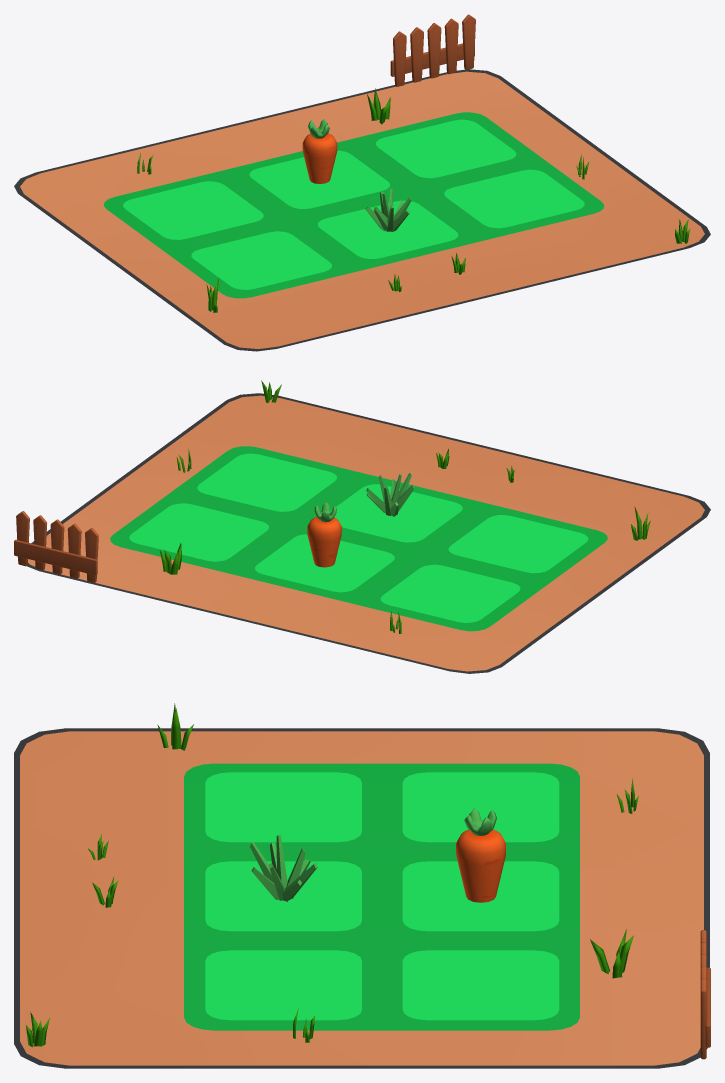
File: carrot_zone.fbx
3 renders of one model, top to bottom at view 1: azimuth 30°, elevation 25°; view 2: azimuth 150°, elevation 25°; view 3: azimuth 270°, elevation 25°, orthographic. The views are drawn at different scales.
Parts seen in each view (by area): view 1: map1_duplicated_01, duplicated_0282, duplicated_0279, duplicated_0276, duplicated_0278, duplicated_0281, duplicated_0277, duplicated_0280, fence01, carrot_mesh, Cactus_8:Cactus_6_0; view 2: map1_duplicated_01, duplicated_0282, duplicated_0276, duplicated_0279, duplicated_0278, duplicated_0281, duplicated_0280, duplicated_0277, fence01, carrot_mesh, Cactus_8:Cactus_6_0; view 3: map1_duplicated_01, duplicated_0282, duplicated_0281, duplicated_0276, duplicated_0278, duplicated_0279, duplicated_0280, duplicated_0277, carrot_mesh, Cactus_8:Cactus_6_0, fence01, pasted__extracted_021 (+1 smaller).
Part boxes in pixels (box(x1,y1,x2,y2)): map1_duplicated_01: box(14, 69, 710, 351); duplicated_0282: box(104, 112, 603, 298); duplicated_0279: box(123, 181, 263, 239); duplicated_0276: box(444, 169, 584, 228); duplicated_0278: box(191, 231, 331, 289); duplicated_0281: box(376, 119, 516, 178); duplicated_0277: box(318, 200, 458, 258); duplicated_0280: box(249, 150, 389, 208); fence01: box(390, 14, 475, 86); carrot_mesh: box(302, 119, 337, 183); Cactus_8:Cactus_6_0: box(365, 188, 411, 231); map1_duplicated_01: box(26, 393, 710, 673); duplicated_0282: box(110, 446, 607, 631); duplicated_0276: box(197, 453, 336, 511); duplicated_0279: box(380, 564, 520, 622); duplicated_0278: box(448, 515, 588, 573); duplicated_0281: box(129, 503, 268, 561); duplicated_0280: box(255, 534, 394, 592); duplicated_0277: box(330, 484, 462, 542); fence01: box(14, 511, 98, 582); carrot_mesh: box(307, 502, 341, 567); Cactus_8:Cactus_6_0: box(366, 473, 414, 516); map1_duplicated_01: box(14, 728, 709, 1068); duplicated_0282: box(184, 763, 579, 1030); duplicated_0281: box(402, 950, 559, 1020); duplicated_0276: box(205, 950, 361, 1020); duplicated_0278: box(205, 772, 361, 842); duplicated_0279: box(402, 772, 559, 842); duplicated_0280: box(402, 861, 559, 931); duplicated_0277: box(205, 861, 361, 931); carrot_mesh: box(456, 808, 505, 902); Cactus_8:Cactus_6_0: box(250, 835, 317, 901); fence01: box(700, 930, 710, 1059); pasted__extracted_021: box(590, 929, 633, 978).
Bounding box in the file's own units: 13.97 × 2.54 × 12.1.
